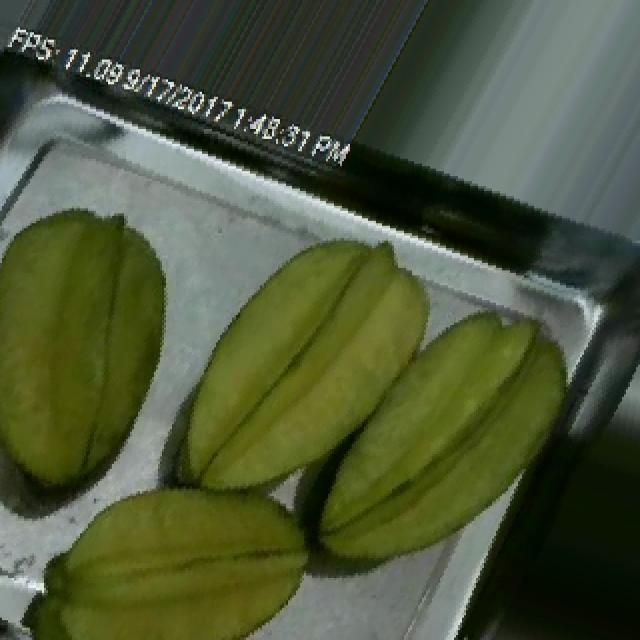fruit: (152, 206, 498, 563), (0, 174, 240, 526), (8, 441, 344, 640)
